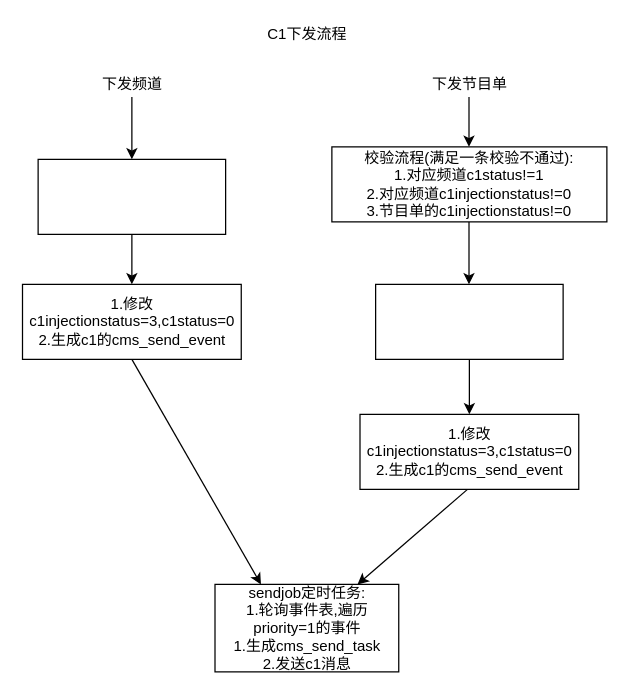
The diagram is 629 pixels wide and 694 high, and some of its shapes have lost their labels. The box of each missing label's shape, as (x1, y1, x2, y2) in pixels:
1.拼接EPGFileset字符串 2.拼接节目json信息: (374, 283, 563, 359)
1.拼接EPGFileset字符串 2.拼接频道列表信息 3.拼接livechannel.json信息: (37, 158, 226, 234)
